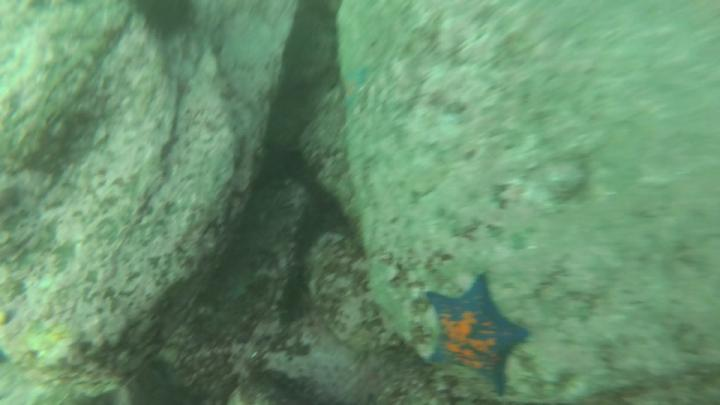echinus: (125, 1, 202, 43)
starfish: (419, 269, 534, 398)
